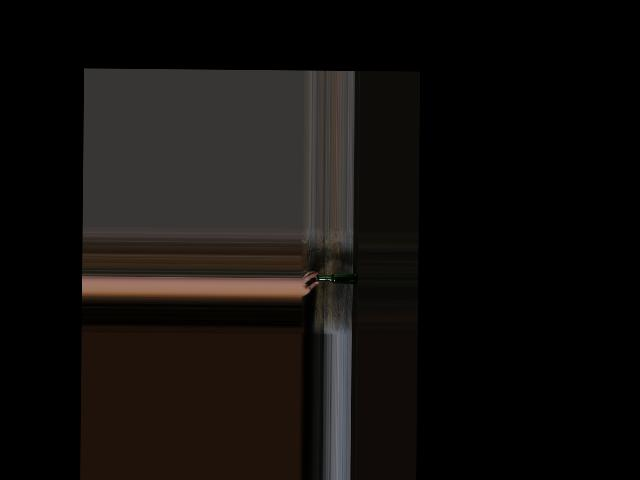beer: (316, 273, 357, 284)
